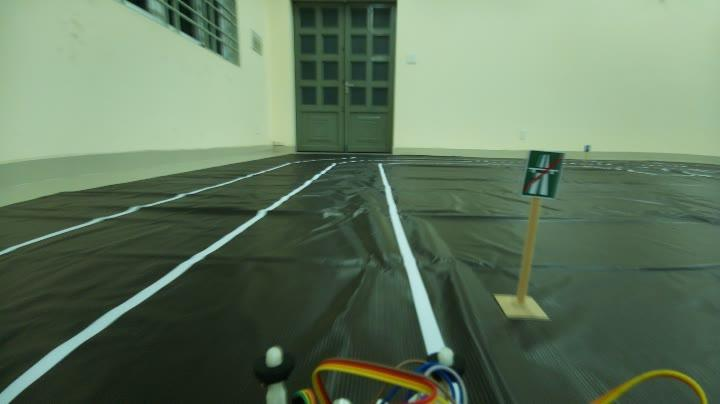highway_exit: (512, 144, 572, 202)
